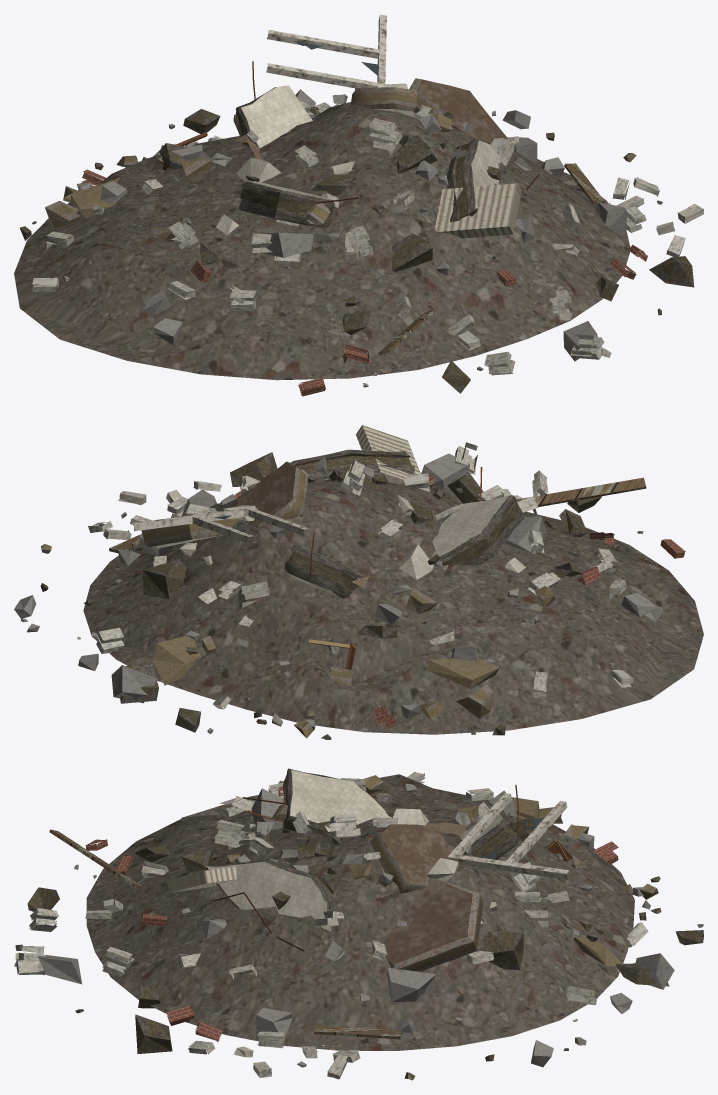
Rendered from rubble_1.glb.
3 renders of one model, top to bottom at view 1: azimuth 30°, elevation 25°; view 2: azimuth 150°, elevation 25°; view 3: azimuth 270°, elevation 25°, orthographic.
Visible parts, largest first — view 1: rubble_1; view 2: rubble_1; view 3: rubble_1.
Part boxes in pixels (box(x1,y1,x2,y2)): rubble_1: box(14, 14, 703, 396); rubble_1: box(14, 425, 703, 739); rubble_1: box(14, 768, 703, 1080).
Size of the model in its own units: 7.13 by 1.99 by 6.94.
1 material, 1 textured.
